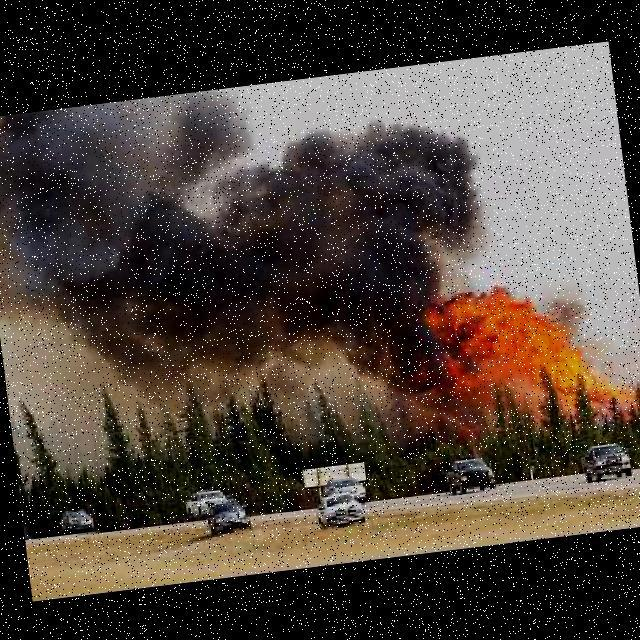Fire: (406, 270, 636, 439)
Smoke: (51, 61, 505, 417)
